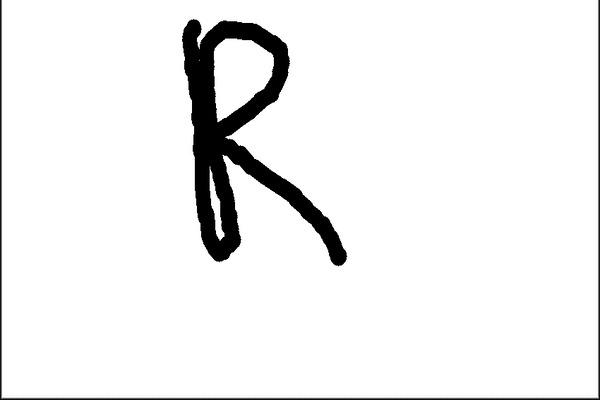R: (165, 11, 360, 279)
